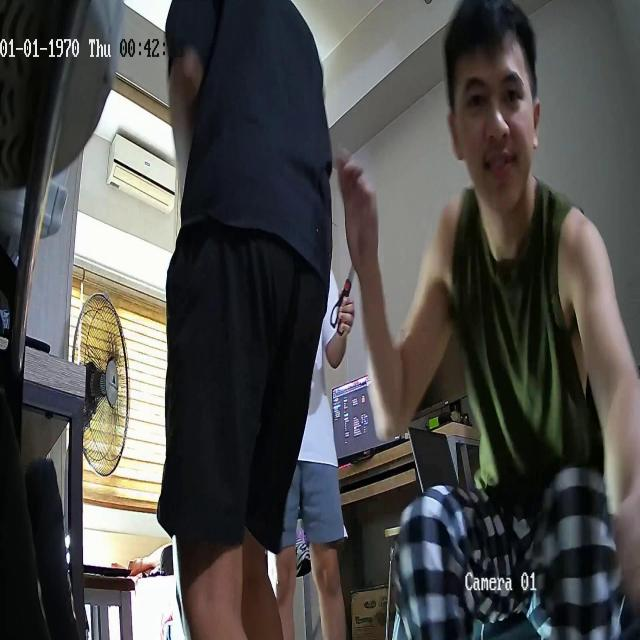scissor: (331, 266, 355, 336)
